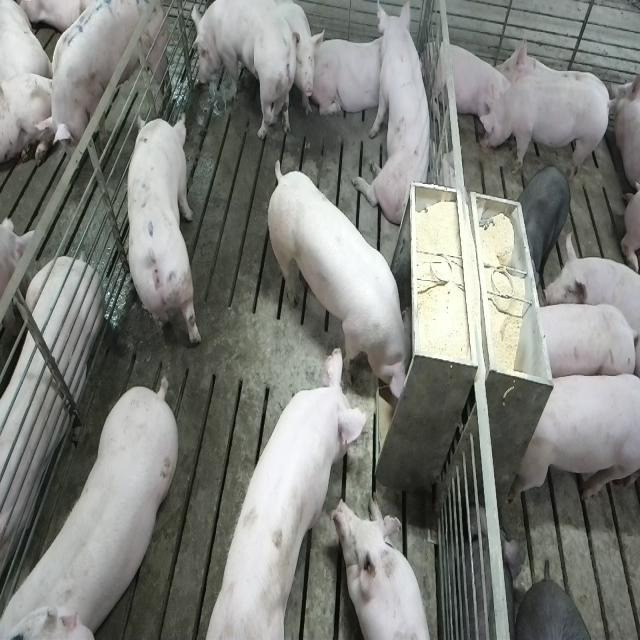Feeding: (271, 161, 421, 410)
Sitting: (355, 4, 436, 227), (191, 1, 313, 145)
Standing: (199, 342, 374, 636), (5, 374, 184, 635), (31, 0, 166, 173), (123, 112, 201, 354), (515, 371, 637, 509), (478, 78, 615, 184), (545, 230, 640, 363), (532, 304, 636, 381), (520, 164, 574, 274)
Sternal_lying: (0, 228, 101, 586), (335, 496, 437, 640), (430, 35, 508, 132), (309, 33, 391, 120)
